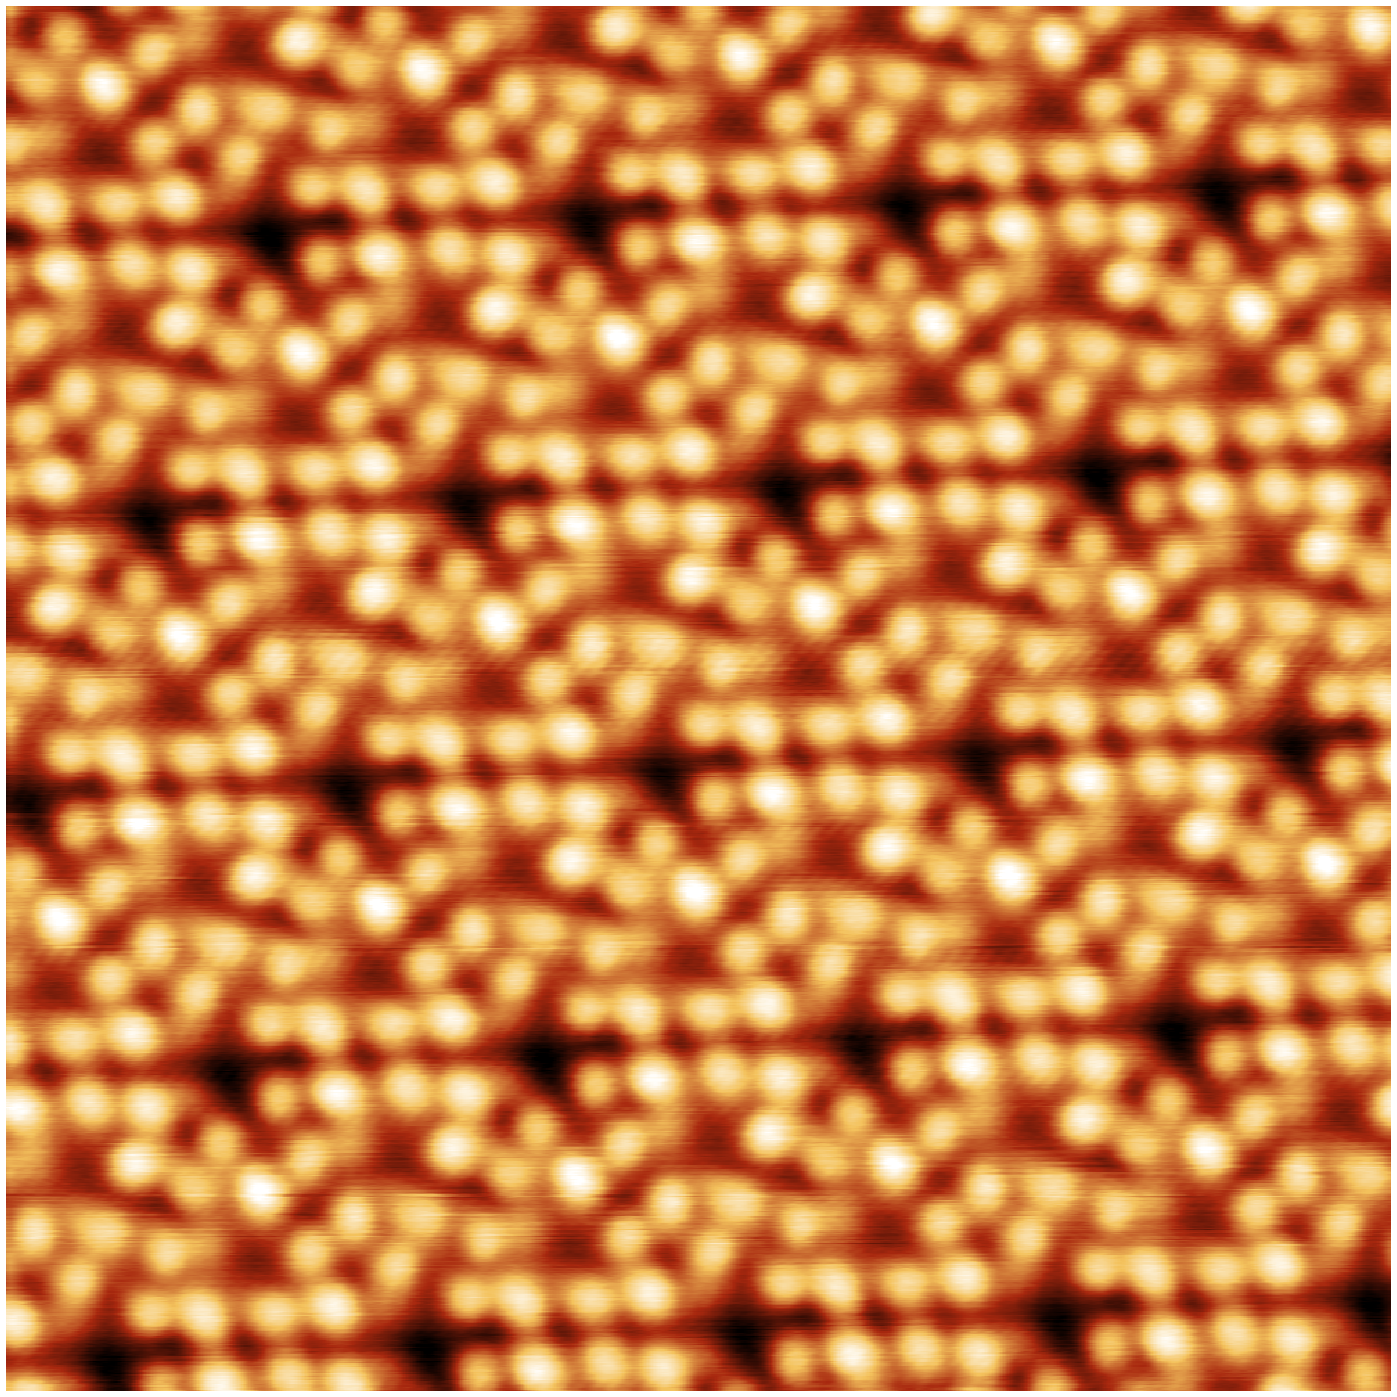L: (29, 417, 226, 617), (855, 654, 1052, 853), (154, 130, 349, 330), (1100, 86, 1296, 285), (544, 668, 739, 867), (741, 939, 936, 1139), (1054, 925, 1250, 1125), (467, 115, 663, 313), (782, 104, 977, 302), (345, 397, 541, 595), (660, 385, 856, 583), (975, 374, 1171, 572), (229, 683, 425, 881), (1172, 642, 1368, 841), (107, 968, 303, 1167), (425, 953, 620, 1151), (939, 1206, 1137, 1397), (620, 1223, 816, 1397)
R: (6, 237, 207, 421), (301, 38, 501, 223), (612, 19, 812, 203), (809, 293, 1009, 477), (1126, 275, 1327, 459), (519, 491, 720, 675), (205, 501, 406, 686), (377, 586, 578, 770), (695, 572, 896, 756), (716, 756, 917, 940), (597, 1043, 798, 1227), (178, 322, 377, 507), (322, 221, 522, 406), (642, 209, 842, 393), (1150, 458, 1350, 642), (841, 473, 1040, 658), (56, 604, 256, 788), (399, 770, 599, 954), (1032, 746, 1232, 930), (1197, 837, 1397, 1021), (1085, 1119, 1284, 1304), (890, 846, 1090, 1030), (774, 1132, 974, 1316), (574, 858, 774, 1043), (256, 878, 455, 1062), (287, 1058, 486, 1242), (450, 1144, 650, 1328), (929, 12, 1130, 194), (496, 304, 697, 487), (959, 194, 1159, 377), (1008, 562, 1208, 745), (84, 785, 284, 968), (916, 1029, 1116, 1212), (142, 1162, 342, 1345), (1, 51, 184, 234), (1220, 1020, 1397, 1209), (1, 1075, 168, 1263)
